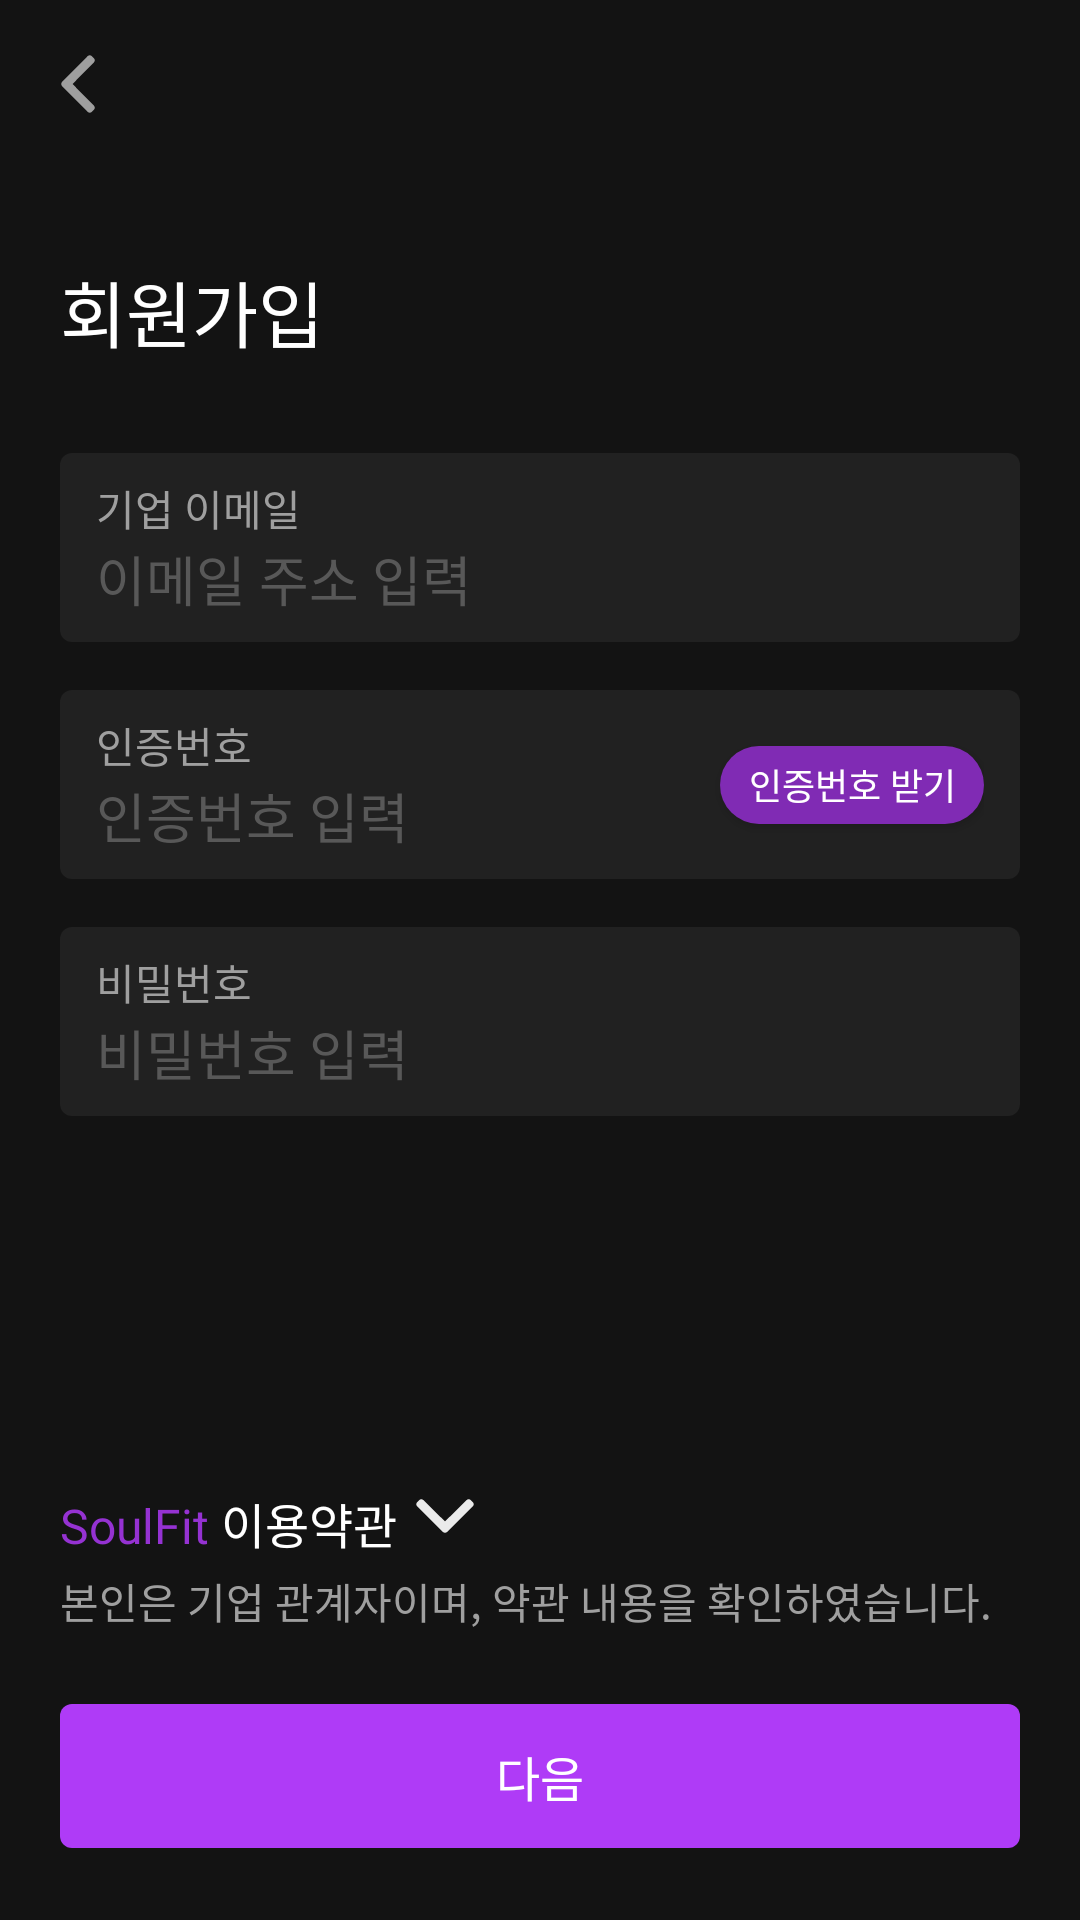

Where to tap for icons on this 1080*1920 app screen, as point (x, y):
arrow down: point (445, 1516)
